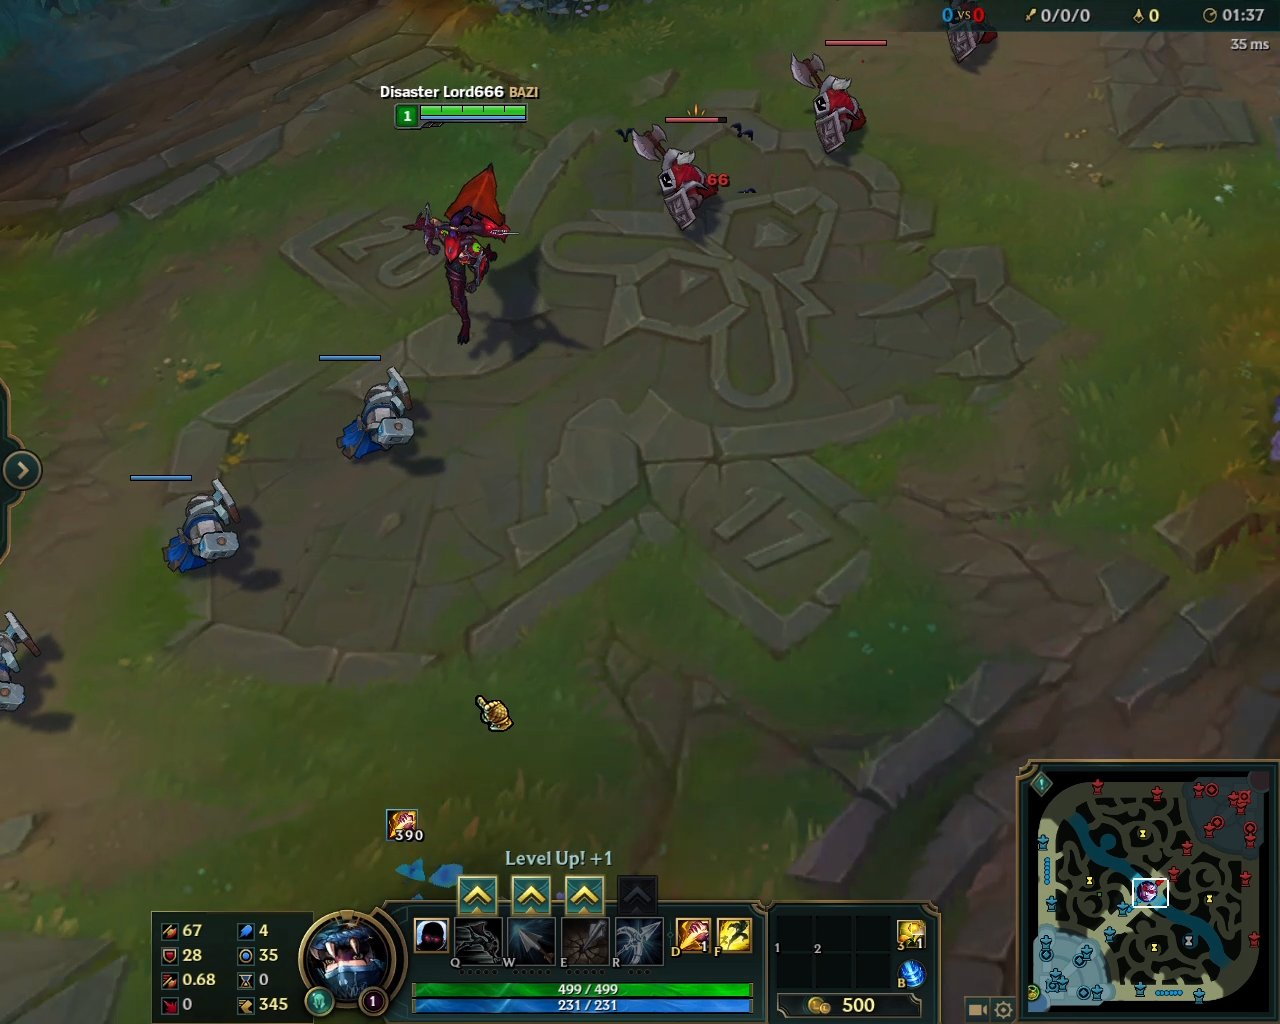EnemyMinion: (620, 112, 732, 233), (784, 41, 884, 155)
Vayne: (398, 149, 520, 352)
